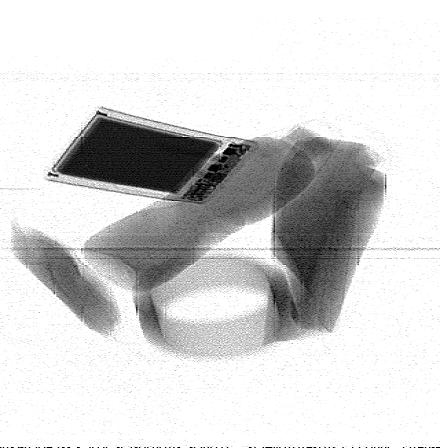Powerbank: (42, 106, 259, 205)
